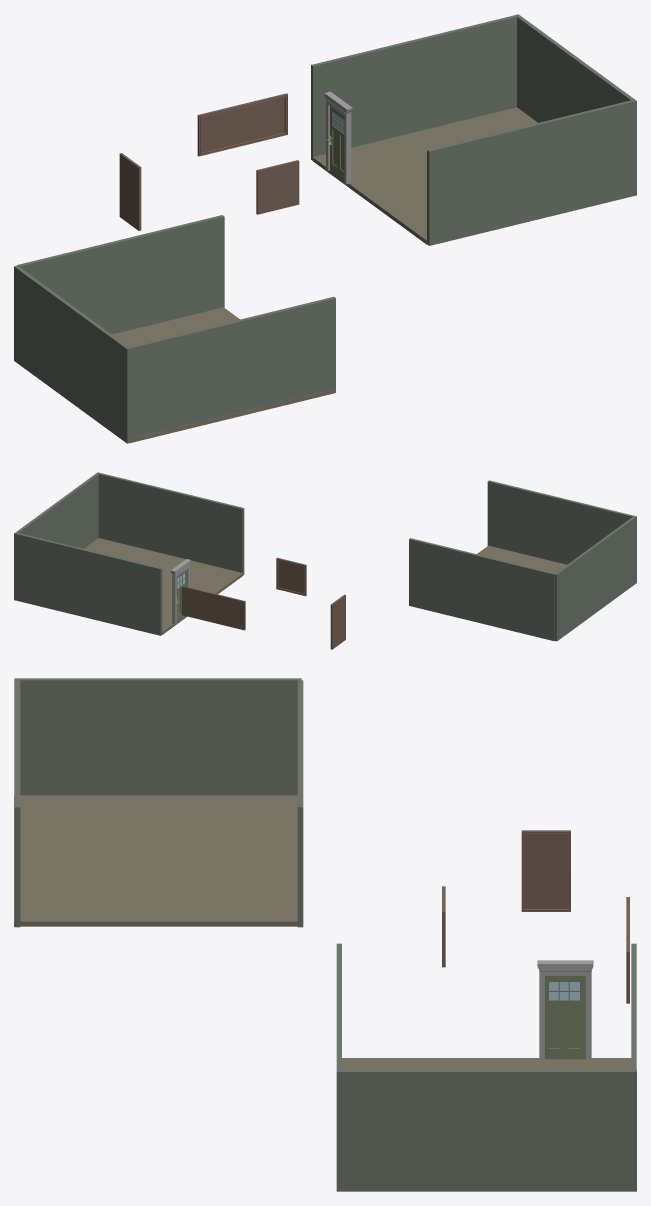
Rendered from Room_add.fbx.
3 renders of one model, top to bottom at view 1: azimuth 30°, elevation 25°; view 2: azimuth 150°, elevation 25°; view 3: azimuth 270°, elevation 25°, orthographic. The views are drawn at different scales.
Parts seen in each view (by area): view 1: pCube46, pCube52, pCube45, pCube54, pCube53, pCube43, pCube47, pCube40, pCube44, pCube41, pCube42, polySurface6; view 2: pCube45, pCube54, pCube46, pCube52, pCube53, pCube47, pCube43, pCube40, pCube41, pCube44, pCube42, polySurface6; view 3: pCube47, pCube44, pCube53, pCube42, pCube43, polySurface6, pCube52, pCube54, pCube71, pCube45, pCube46.
Boxes of the visible parts, left/top/right/bottom form: pCube46: left=427, top=100, right=634, bottom=245; pCube52: left=129, top=296, right=335, bottom=438; pCube45: left=311, top=15, right=517, bottom=160; pCube54: left=17, top=215, right=224, bottom=334; pCube53: left=14, top=265, right=130, bottom=443; pCube43: left=312, top=107, right=537, bottom=244; pCube47: left=515, top=14, right=636, bottom=196; pCube40: left=197, top=93, right=287, bottom=156; pCube44: left=112, top=307, right=335, bottom=442; pCube41: left=256, top=160, right=299, bottom=214; pCube42: left=119, top=153, right=141, bottom=230; polySurface6: left=330, top=106, right=344, bottom=180; pCube45: left=16, top=533, right=162, bottom=635; pCube54: left=409, top=538, right=554, bottom=640; pCube46: left=98, top=472, right=244, bottom=575; pCube52: left=487, top=480, right=633, bottom=564; pCube53: left=554, top=515, right=636, bottom=641; pCube47: left=14, top=472, right=98, bottom=600; pCube43: left=84, top=538, right=242, bottom=634; pCube40: left=181, top=585, right=245, bottom=630; pCube41: left=276, top=557, right=306, bottom=596; pCube44: left=477, top=545, right=566, bottom=640; pCube42: left=330, top=594, right=345, bottom=649; polySurface6: left=176, top=569, right=186, bottom=621; pCube47: left=336, top=1069, right=636, bottom=1191; pCube44: left=14, top=795, right=297, bottom=926; pCube53: left=14, top=678, right=301, bottom=795; pCube42: left=521, top=830, right=570, bottom=911; pCube43: left=342, top=1058, right=631, bottom=1069; polySurface6: left=545, top=976, right=585, bottom=1059; pCube52: left=14, top=680, right=20, bottom=927; pCube54: left=297, top=680, right=303, bottom=927; pCube71: left=537, top=960, right=593, bottom=975; pCube45: left=631, top=943, right=636, bottom=1069; pCube46: left=336, top=943, right=341, bottom=1069.
Size of the model in its own units: 2358 by 334 by 1576.
